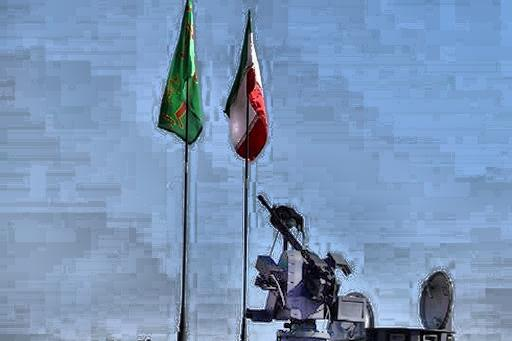tanks: (251, 205, 456, 341)
